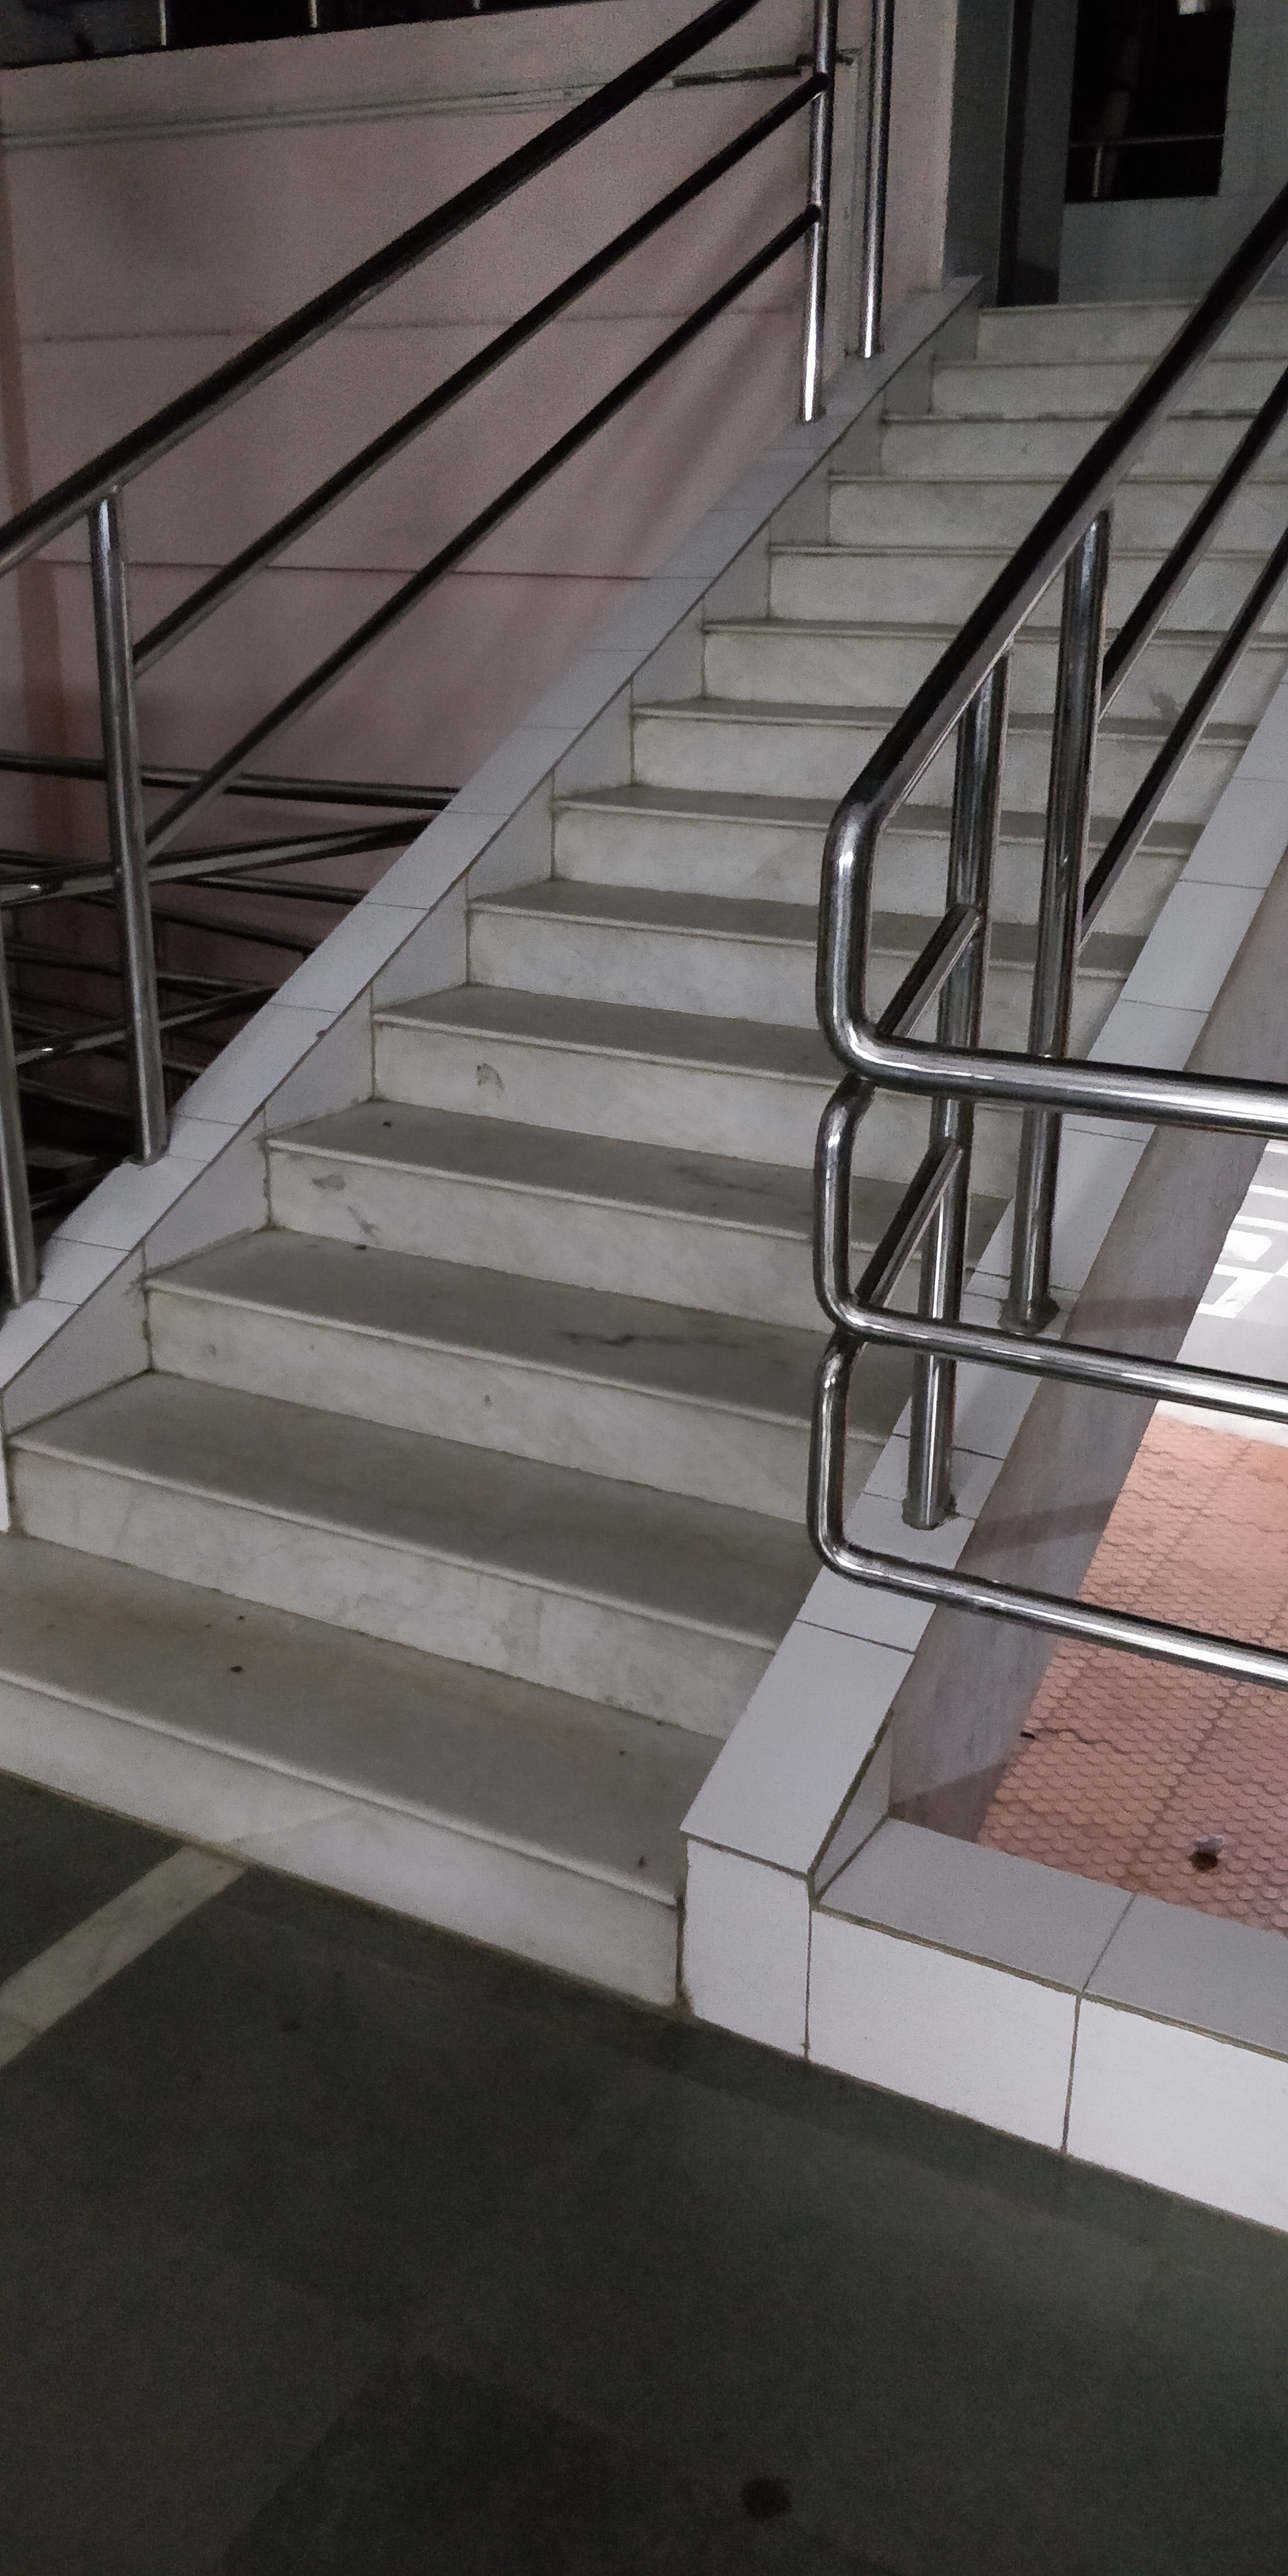stairs_up: (39, 258, 1239, 2003)
